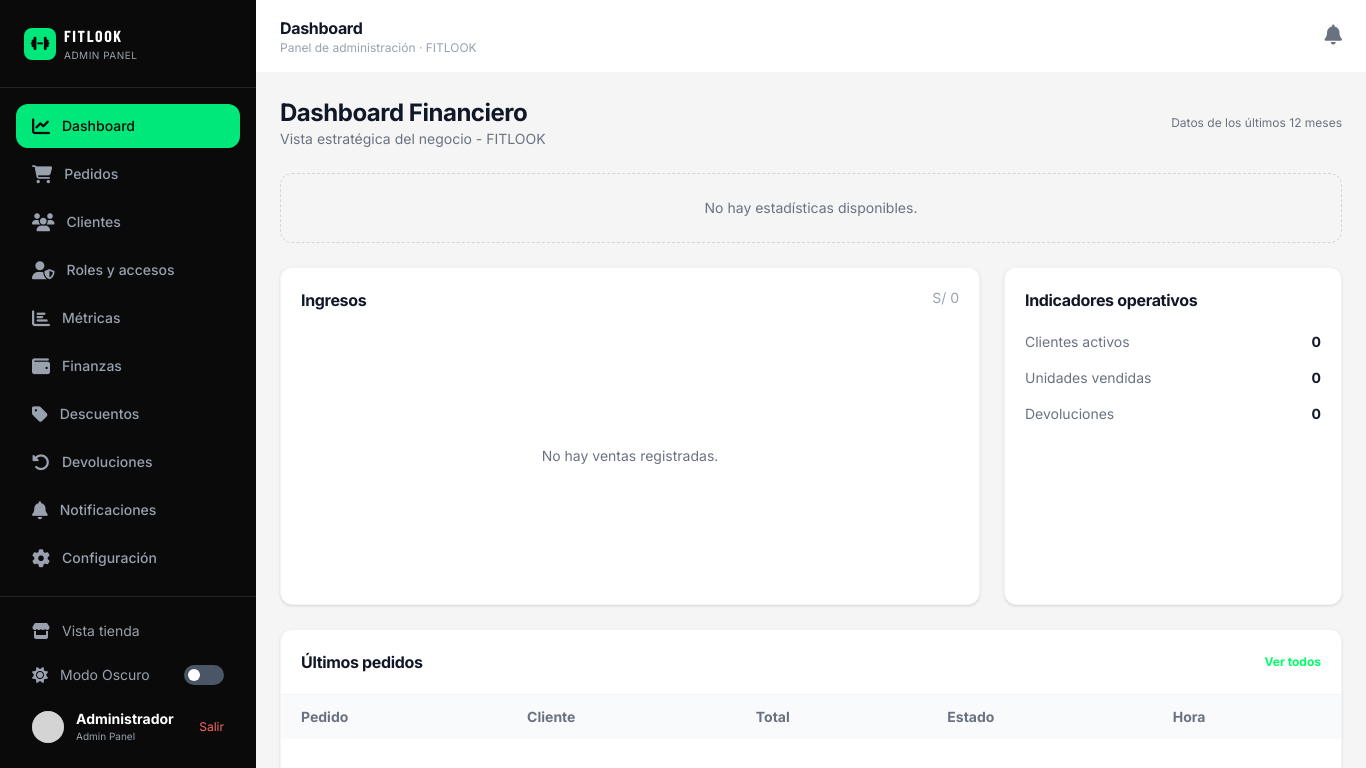
Scenario: AdminDashboard › navega a roles y accesos desde el sidebar
Click the button "Roles y accesos".
click(128, 270)  # box [16,248,240,292]
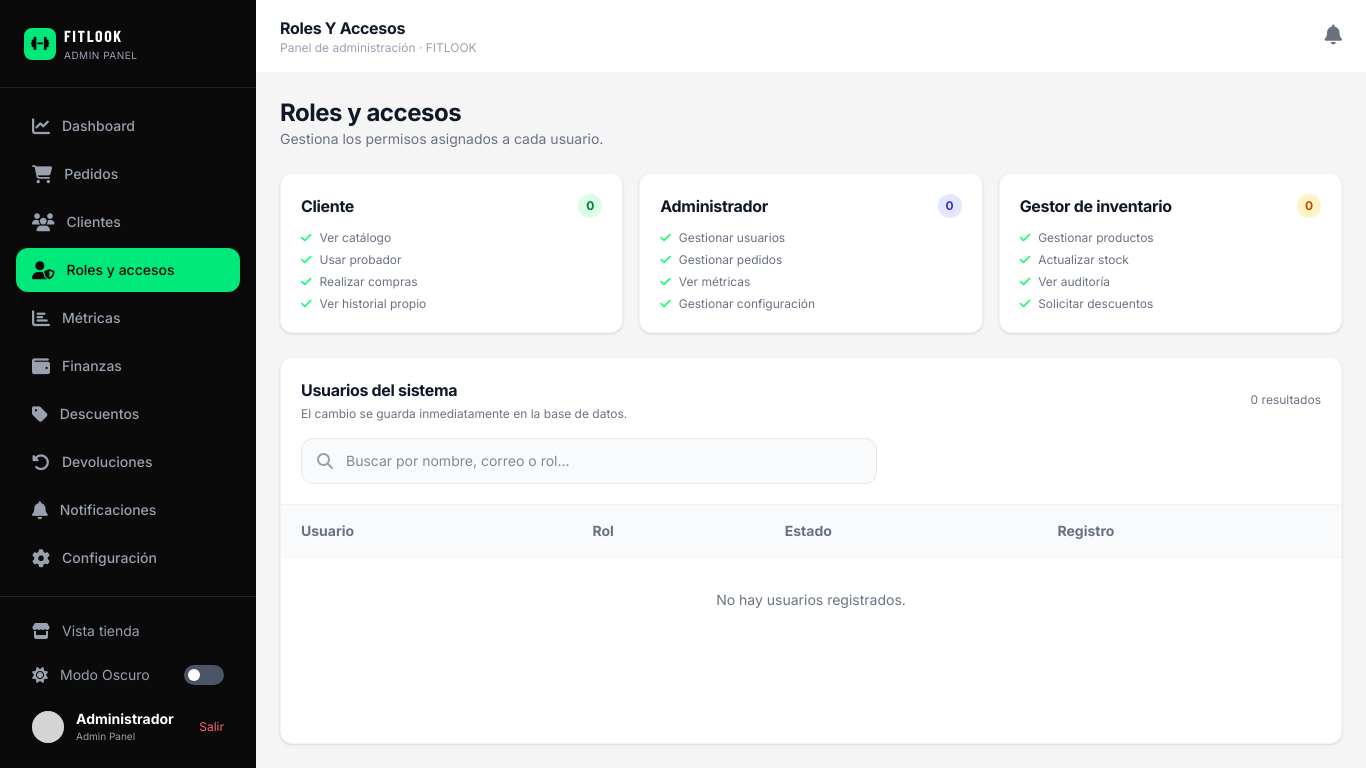
Expected: the heading "Usuarios del sistema" is shown, [301,380,457,400]
